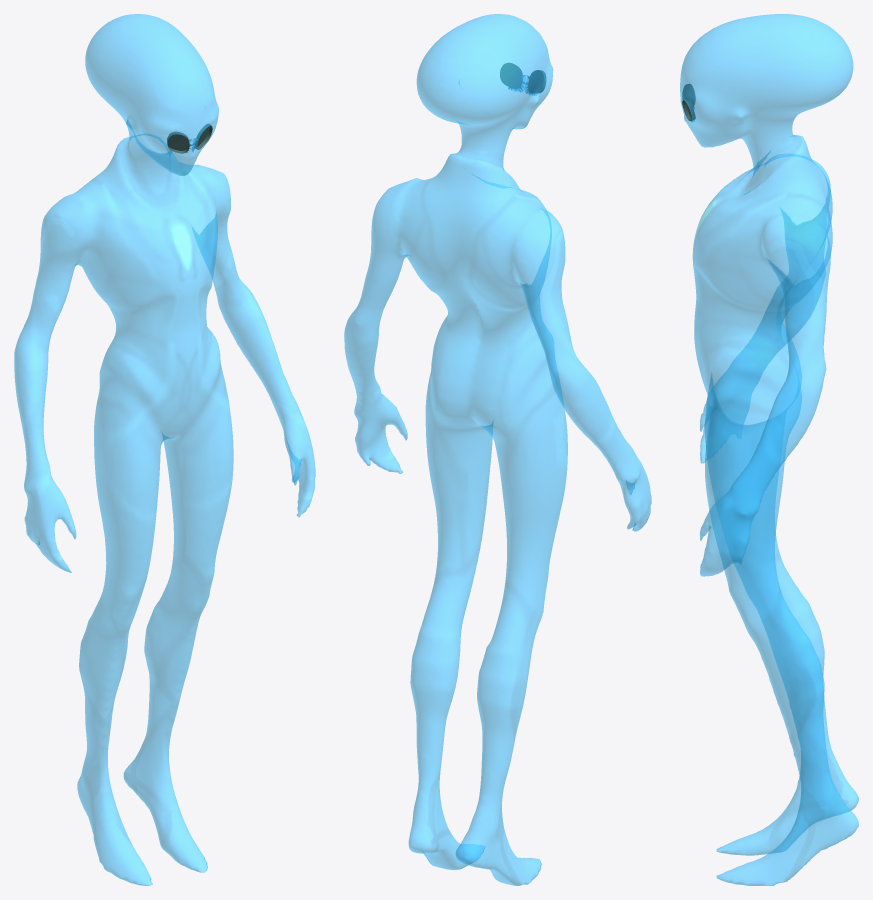
Rendered from alienigena1.glb.
3 views of the same model, side by side, from view 1: azimuth 30°, elevation 25°; view 2: azimuth 150°, elevation 25°; view 3: azimuth 270°, elevation 25° (orthographic).
Visible parts, largest first — view 1: model; view 2: model; view 3: model.
Part boxes in pixels (x1=…): model: x1=14, y1=14, x2=315, y2=885; model: x1=344, y1=14, x2=651, y2=885; model: x1=680, y1=14, x2=858, y2=885.
Size of the model in its own units: 0.6595 by 1.9 by 0.363.
Materials: 2 (1 with a texture image).
